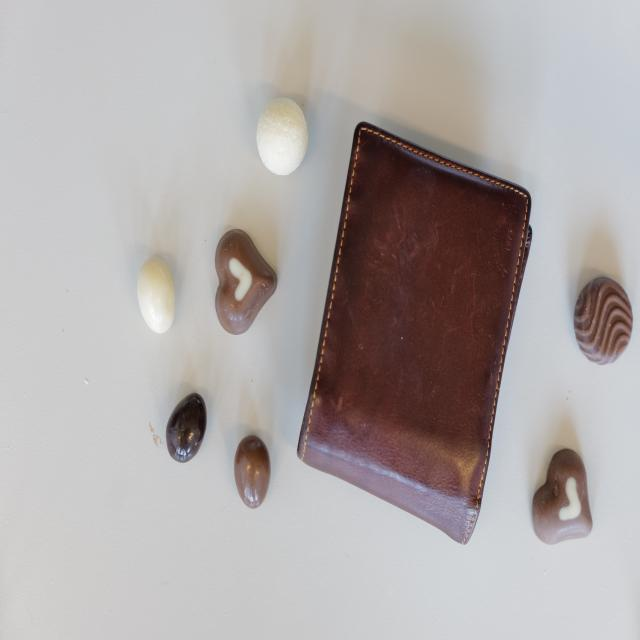Comtesse: (256, 98, 308, 175)
Jelly_Black: (166, 394, 208, 462)
Jelly_Milk: (137, 256, 175, 336), (235, 433, 271, 511)
Noir_authentique: (574, 276, 634, 366)
Passion_au_lait: (216, 228, 278, 337), (532, 448, 593, 546)
